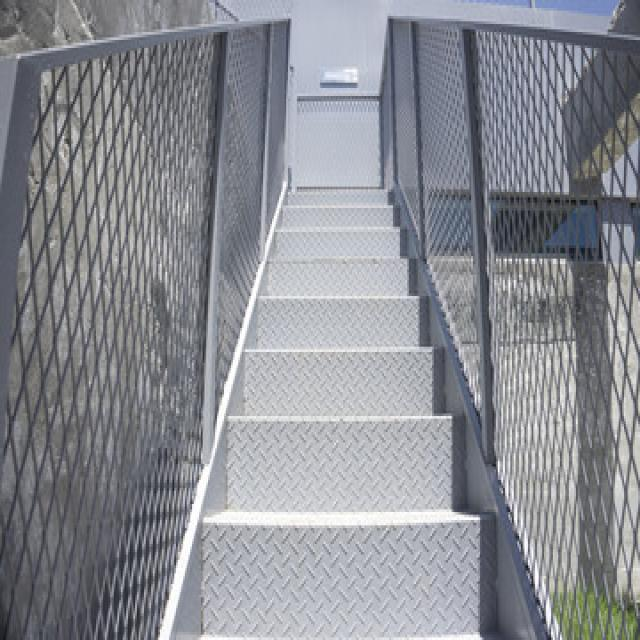stair: (203, 190, 495, 639)
